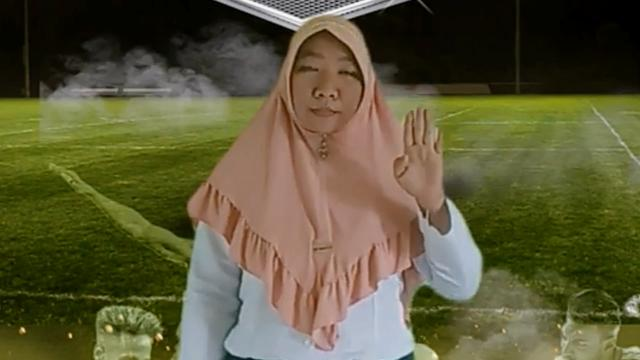B: (394, 106, 446, 204)
